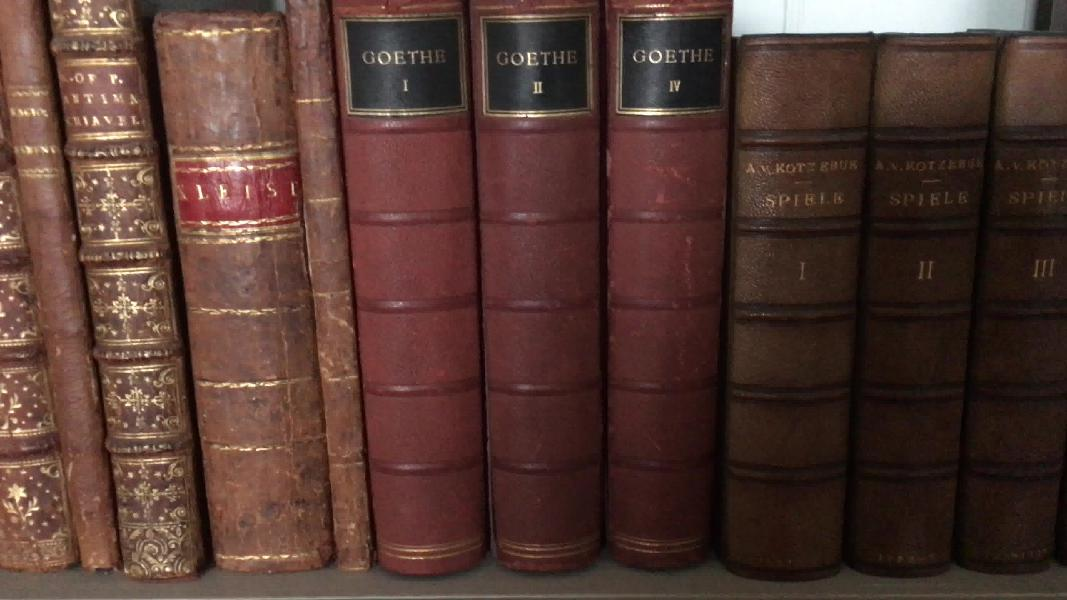Aa6-10: (283, 10, 389, 576)
Aa6-11_13: (332, 7, 724, 570)
Aa6-14_17: (728, 28, 1061, 579)
Aa6-7: (2, 12, 118, 573)
Aa6-8: (45, 1, 202, 583)
Aa6-9: (142, 15, 328, 570)
